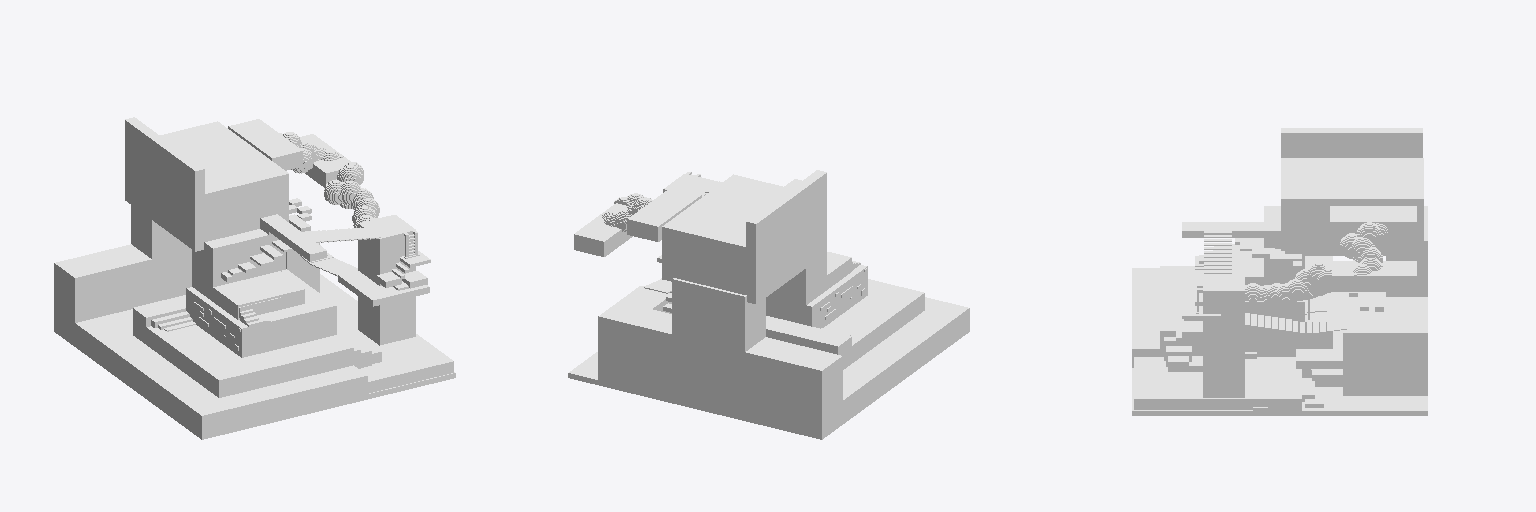
The model's file is maps1.obj.
3 renders of one model, left to right at view 1: azimuth 30°, elevation 25°; view 2: azimuth 150°, elevation 25°; view 3: azimuth 270°, elevation 25°, orthographic.
Visible parts, largest first — view 1: object 1; view 2: object 1; view 3: object 1.
Part boxes in pixels (x1,y1,x2,y2): object 1: (54,117,455,439); object 1: (568,170,969,439); object 1: (1132,128,1427,415).
Bounding box in the file's own units: 25.6 × 18.9 × 25.6.